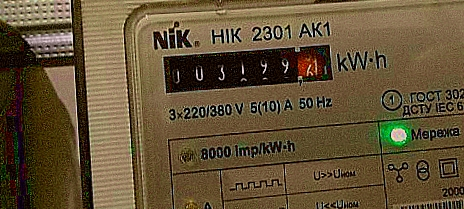0: (193, 63, 205, 82), (170, 65, 180, 84)
1: (237, 57, 247, 76)
3: (215, 62, 226, 82)
6: (303, 61, 314, 76)
9: (257, 55, 269, 76), (280, 56, 291, 74)
screen: (155, 35, 340, 100)
